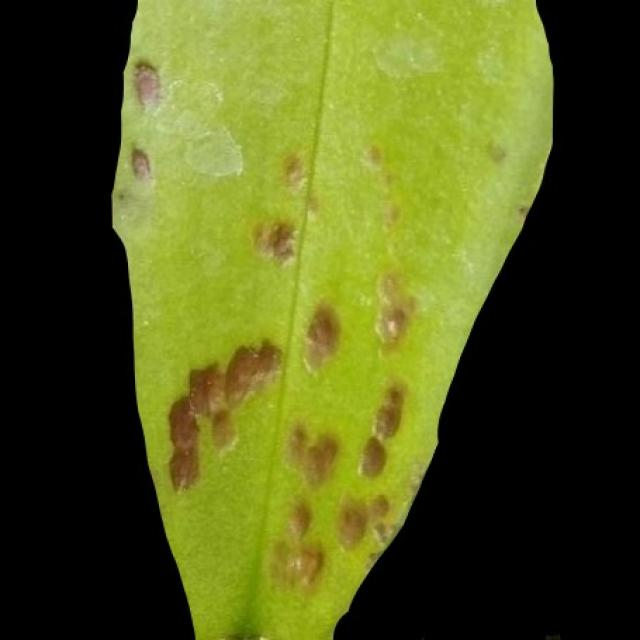mite: (222, 336, 283, 405), (266, 536, 326, 591), (302, 430, 339, 487), (333, 497, 369, 550), (371, 384, 405, 439), (374, 302, 408, 347), (357, 435, 387, 480), (266, 221, 295, 260), (286, 497, 314, 537), (128, 145, 152, 180), (211, 630, 283, 639)
spots: (107, 0, 556, 639)
